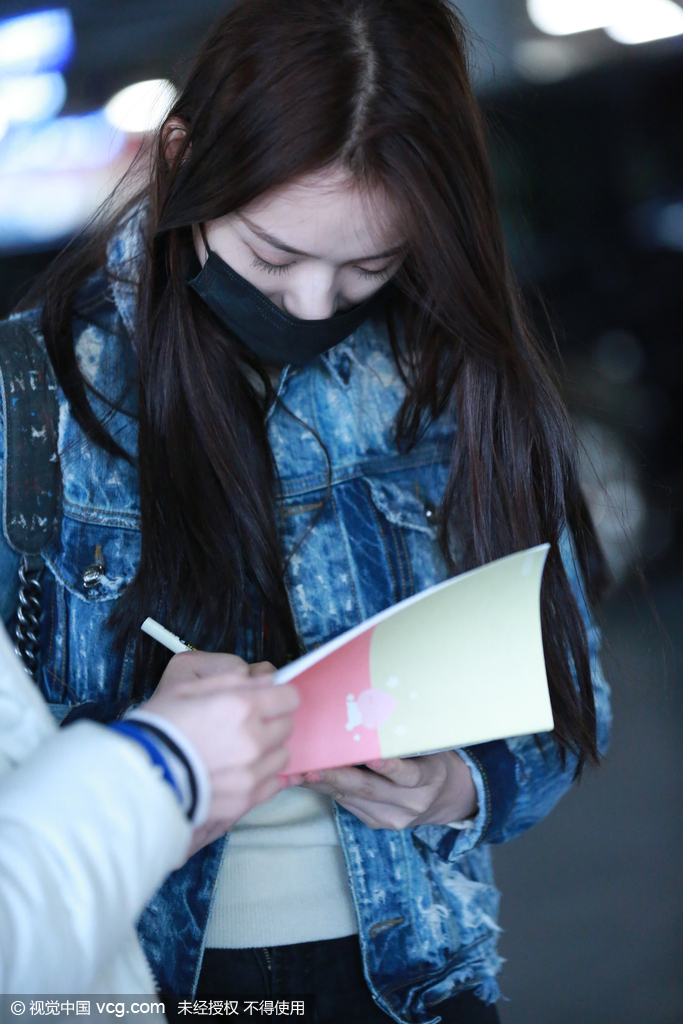mask: (175, 220, 409, 393)
